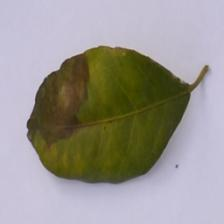black spot: (15, 55, 100, 140)
